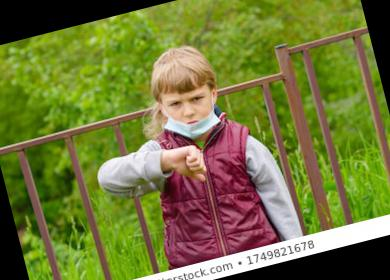mask_weared_incorrect: (161, 86, 221, 141)
